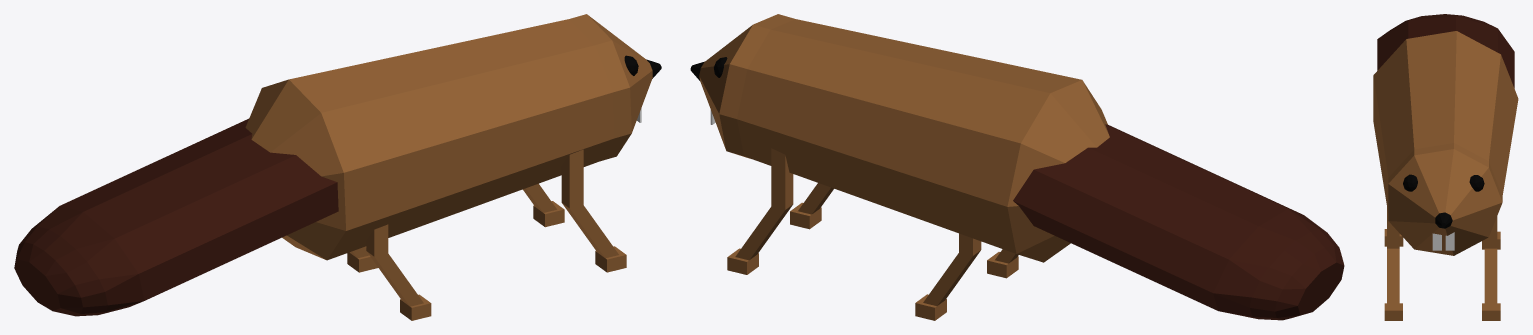
The model's file is bober.fbx.
3 views of the same model, side by side, from view 1: azimuth 30°, elevation 25°; view 2: azimuth 150°, elevation 25°; view 3: azimuth 270°, elevation 25° (orthographic). The views are drawn at different scales.
Visible parts, largest first — view 1: Cylinder, Cylinder.001, Cube.001, Cube, Cube.002, Cube.004; view 2: Cylinder, Cylinder.001, Cube.002, Cube.004, Cube.001, Cube; view 3: Cylinder, Cylinder.001, Cube.002, Cube.001, Icosphere, Icosphere.001, Cube.005, Cube.003.
Boxes of the visible parts, bbox=[...] form: Cylinder: bbox=[245, 14, 661, 260]; Cylinder.001: bbox=[14, 118, 338, 316]; Cube.001: bbox=[561, 149, 626, 272]; Cube: bbox=[366, 224, 431, 320]; Cube.002: bbox=[523, 183, 564, 227]; Cube.004: bbox=[347, 246, 378, 272]; Cylinder: bbox=[690, 14, 1109, 262]; Cylinder.001: bbox=[1013, 124, 1344, 320]; Cube.002: bbox=[727, 148, 793, 274]; Cube.004: bbox=[915, 233, 981, 320]; Cube.001: bbox=[790, 183, 833, 229]; Cube: bbox=[987, 249, 1018, 278]; Cylinder: bbox=[1373, 31, 1518, 255]; Cylinder.001: bbox=[1377, 14, 1514, 88]; Cube.002: bbox=[1482, 216, 1500, 320]; Cube.001: bbox=[1384, 207, 1402, 320]; Icosphere: bbox=[1403, 174, 1417, 191]; Icosphere.001: bbox=[1469, 175, 1484, 191]; Cube.005: bbox=[1432, 233, 1441, 250]; Cube.003: bbox=[1445, 232, 1454, 250].
Size of the model in its own units: 507 by 175 by 129.
